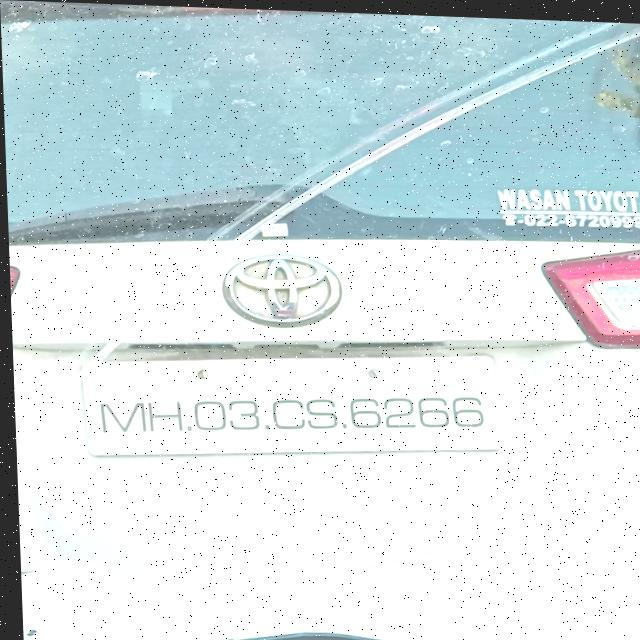plate: (72, 337, 510, 478)
